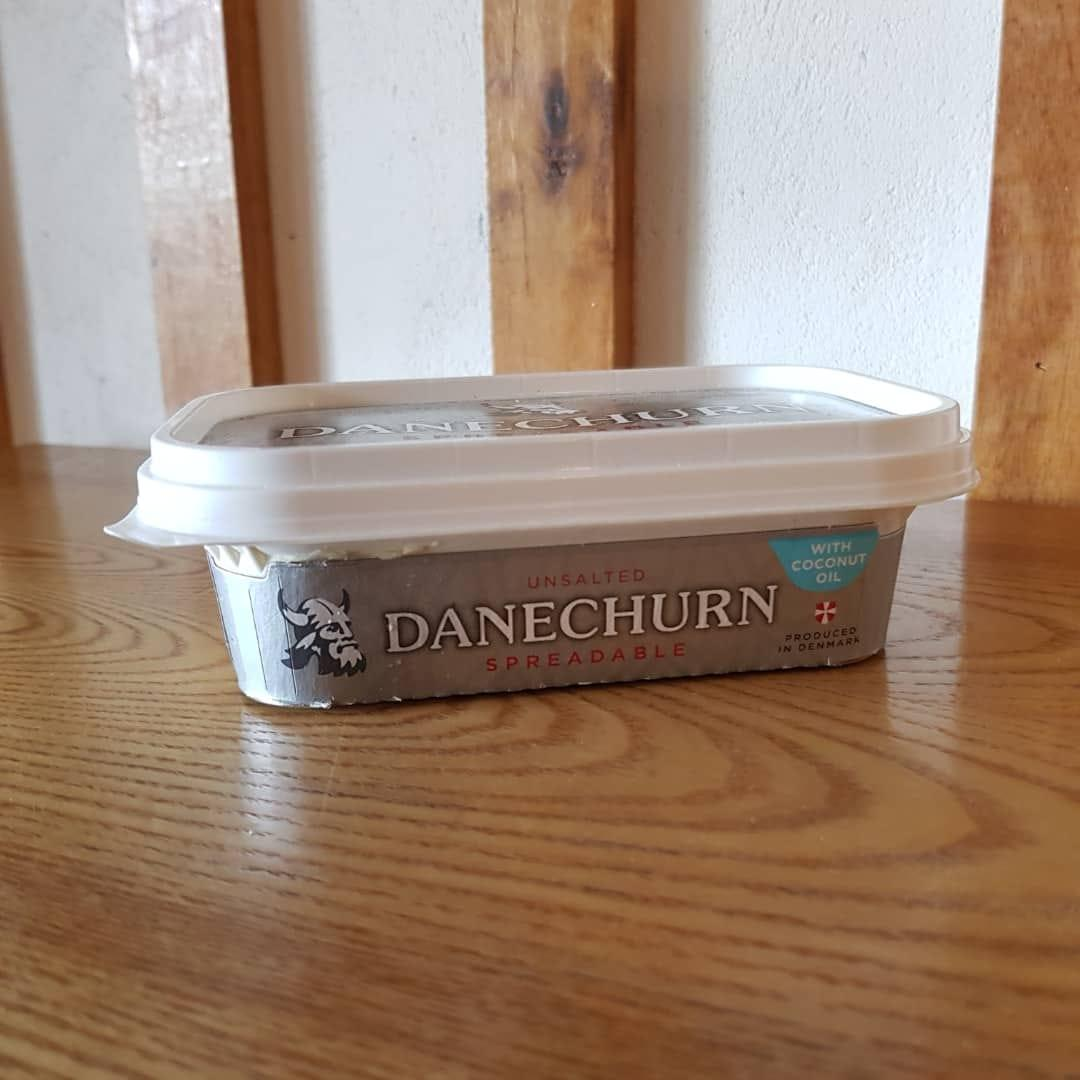plastic: (109, 367, 971, 706)
